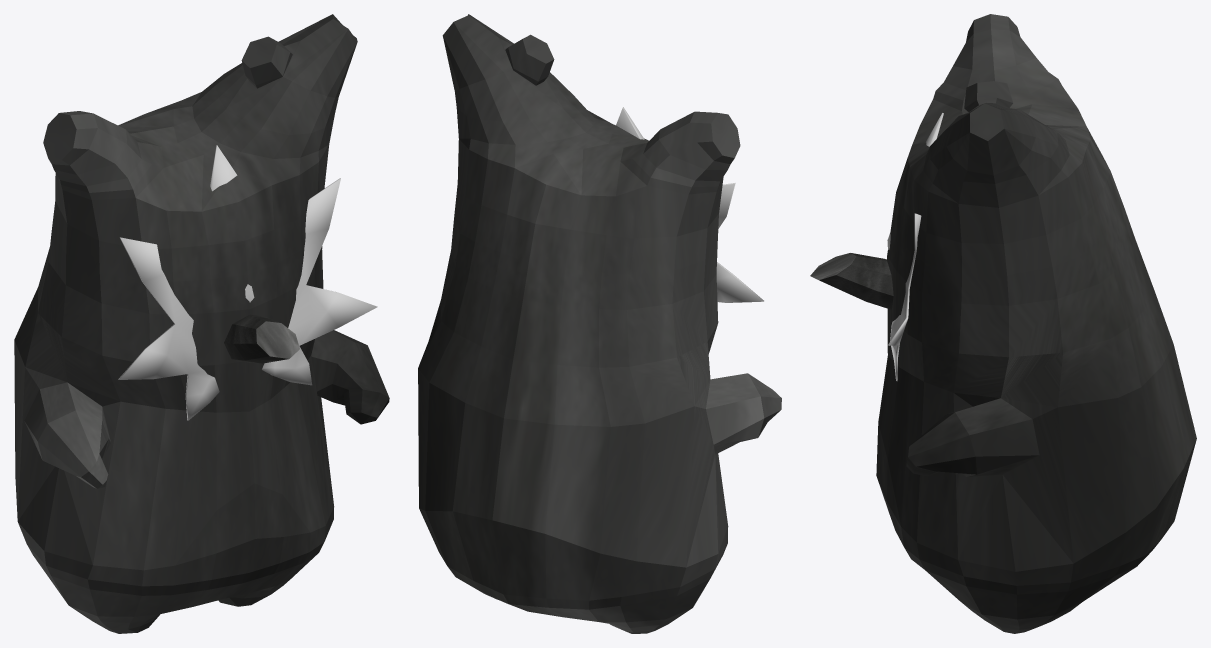
File: frame_0008.obj
3 views of the same model, side by side, from view 1: azimuth 30°, elevation 25°; view 2: azimuth 150°, elevation 25°; view 3: azimuth 270°, elevation 25° (orthographic). The views are drawn at different scales.
Visible parts, largest first — view 1: korok, leaf, nose.003_柱体.011; view 2: korok, leaf; view 3: korok, nose.003_柱体.011, leaf.
Part boxes in pixels (x1,y1,x2,y2): korok: (14,14,389,633); leaf: (118,145,377,420); nose.003_柱体.011: (224,314,299,363); korok: (418,14,781,633); leaf: (616,107,763,302); korok: (876,14,1196,633); nose.003_柱体.011: (810,253,893,309); leaf: (887,113,943,381).
Size of the model in its own units: 1.36 by 2.25 by 1.4.
